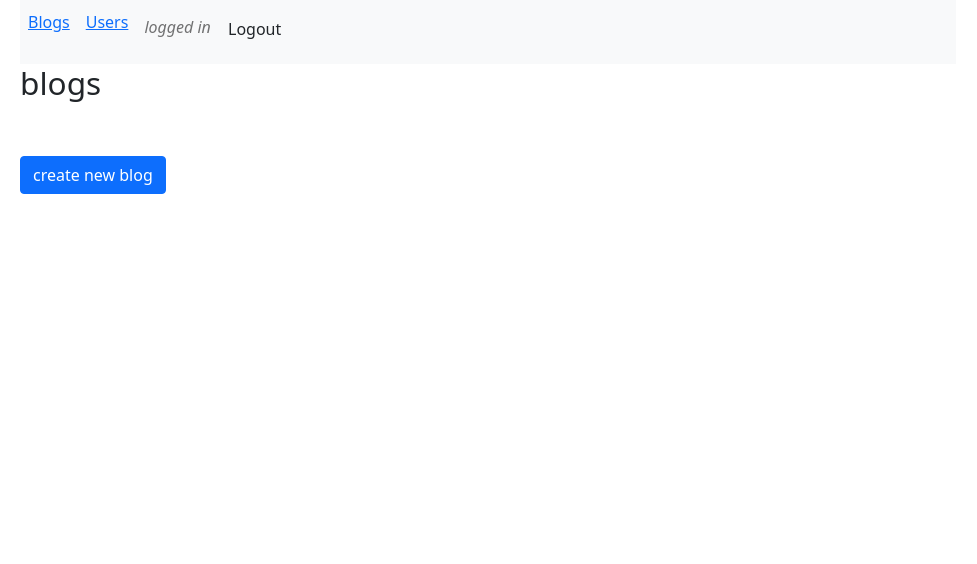
Blog app › login › when logged in › A blog can be created
Click the button with id "togglable-show" at (93, 175), box [20,156,166,194]
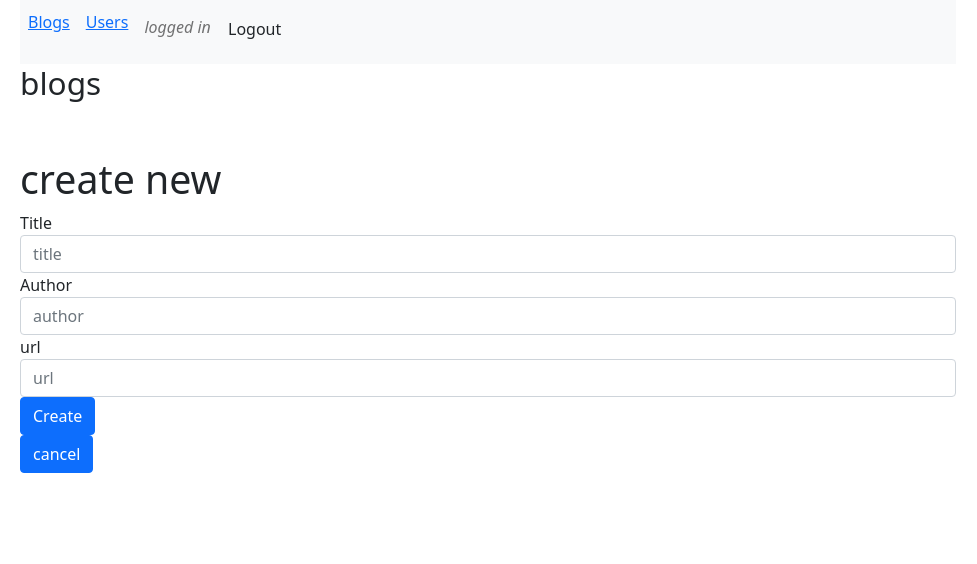
Type "Cypress testing" into the field with id "createBlog-title" at (488, 254), box [20,235,956,273]
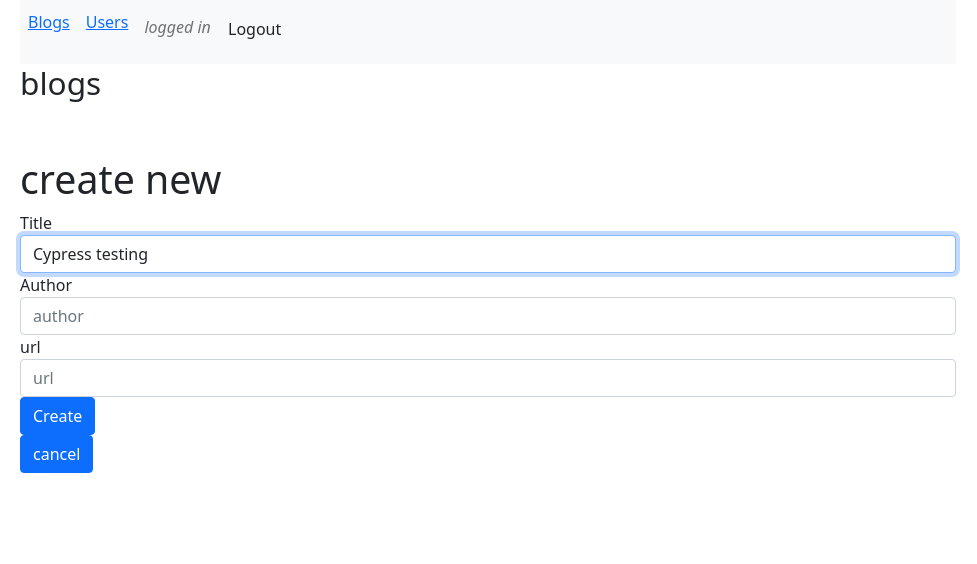
Type "whoever" into the field with id "createBlog-author" at (488, 316), box [20,297,956,335]
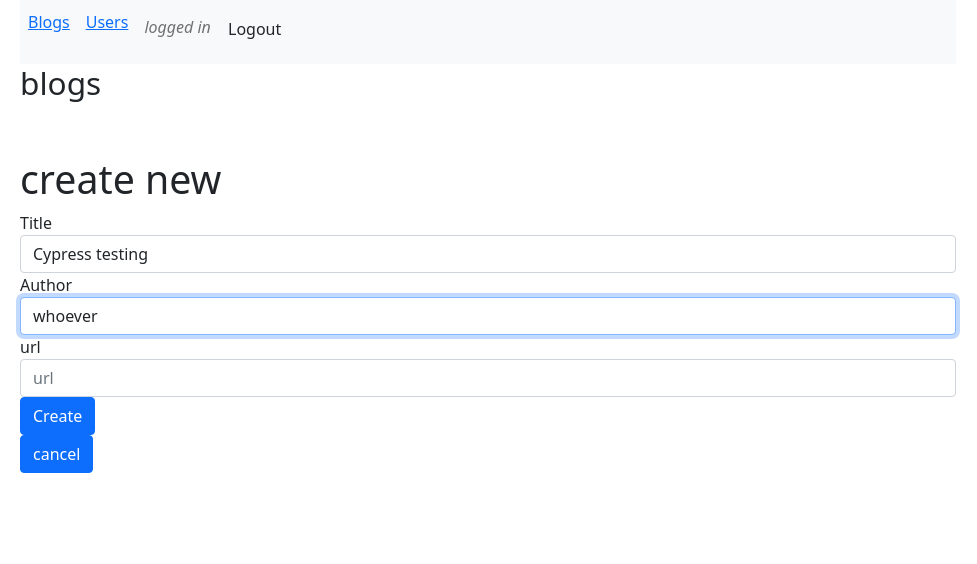
Type "localhost:3000" into the field with id "createBlog-url" at (488, 378), box [20,359,956,397]
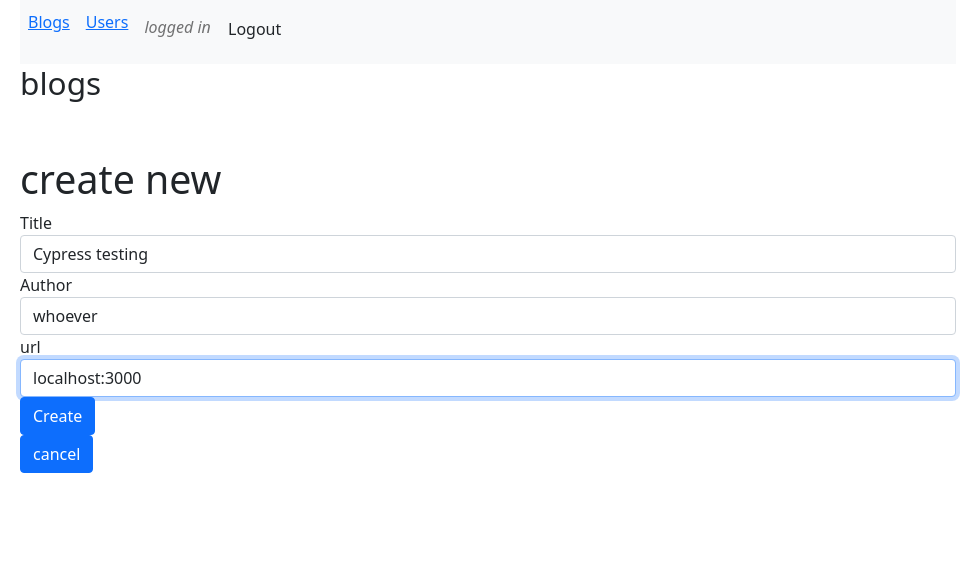
Click the button with id "createBlog-button" at (58, 416), box [20,397,95,435]
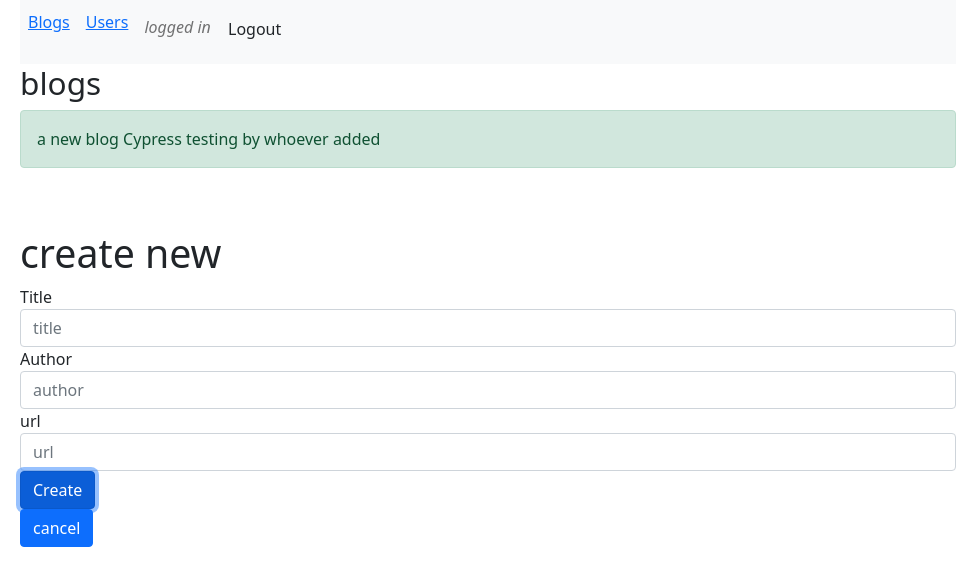
Check: the text "Cypress testing" is shown, box [37,128,380,150]
